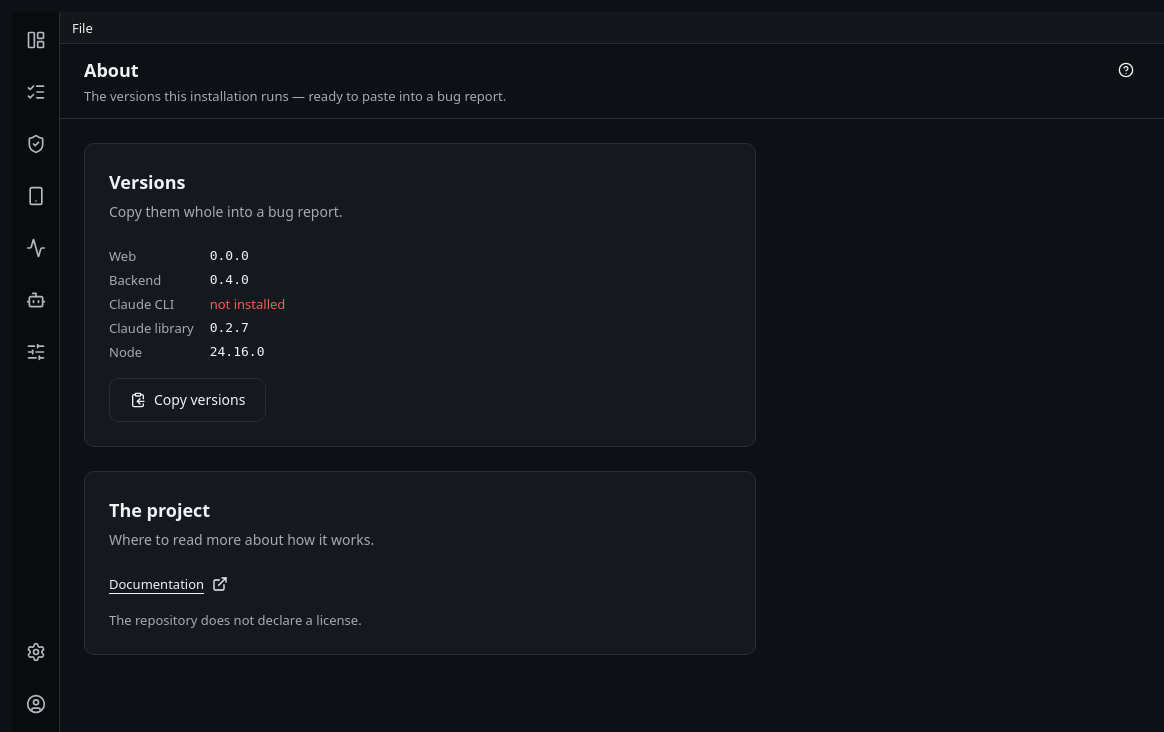
Scenario: About — plan 06, B-32 › copies the whole block, in the language on screen, for a bug report — S-148
Click the button "Copy versions" at (188,400), box left=109, top=378, right=266, bottom=422
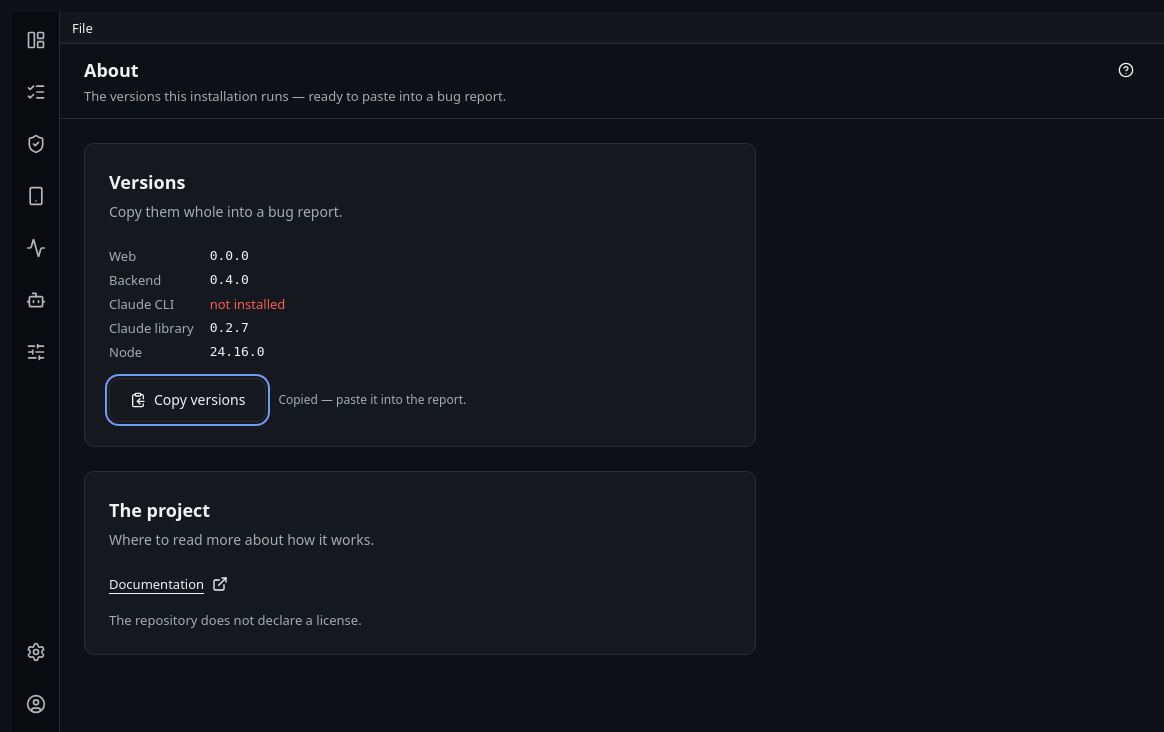
Now the message reads "Copied — paste it into the report.", box left=278, top=391, right=466, bottom=408
